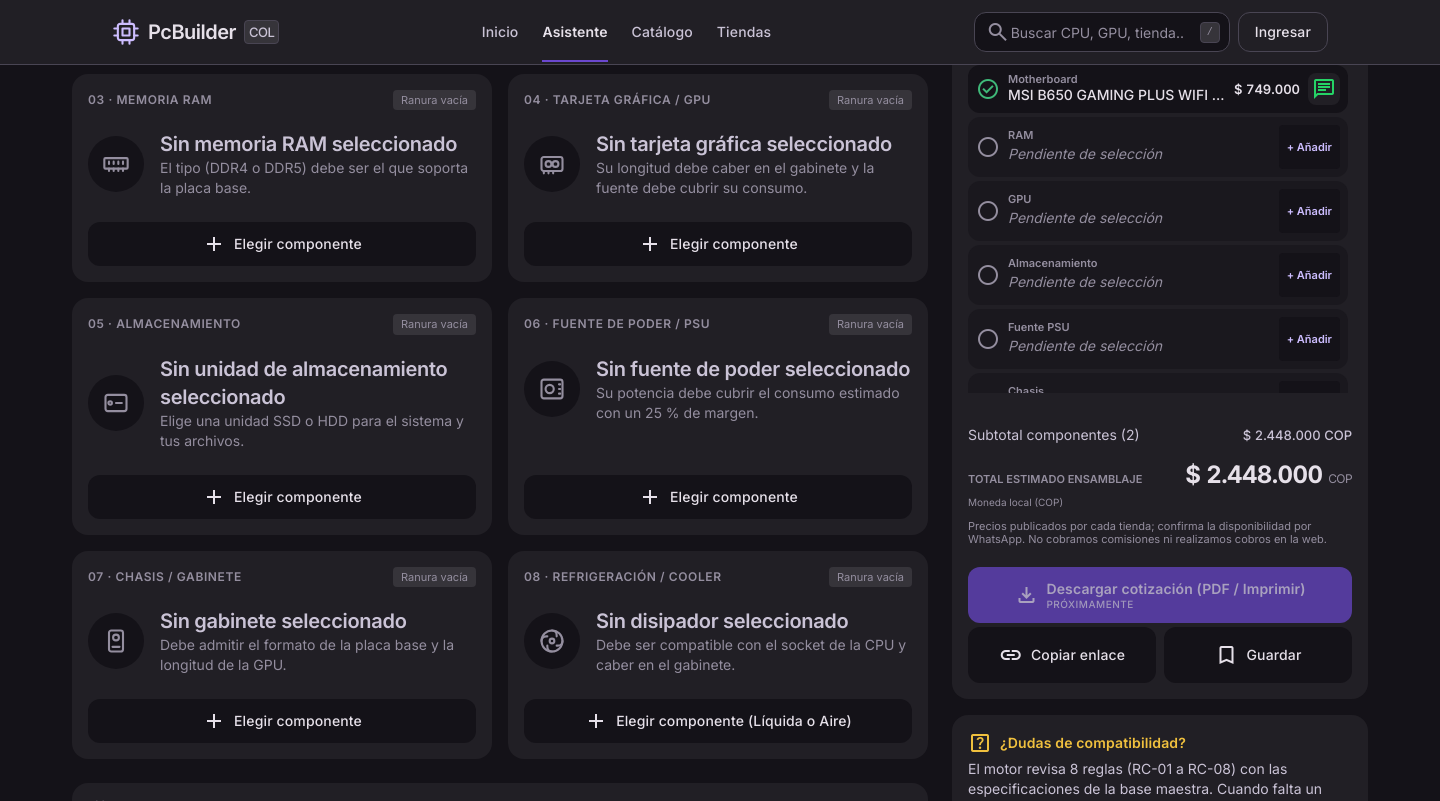
Test case: Asistente: compartir sin sesión › con un armado compatible no se marca como borrador
This screenshot has width=1440, height=801.
(page scrolled)
Click the button "Copiar enlace" at (1062, 655), box [968, 627, 1156, 683]
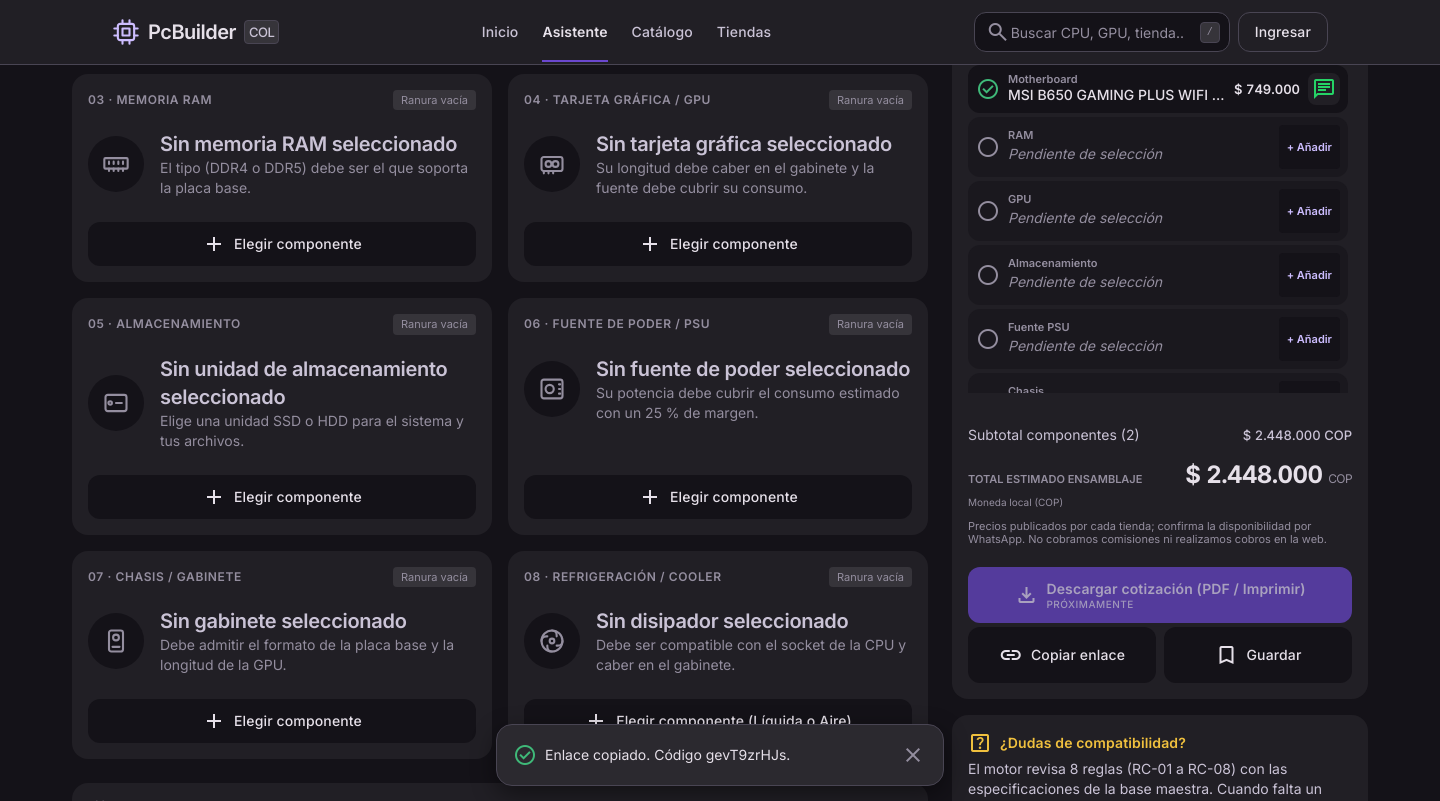
Check: the text "Enlace copiado" is shown, box [545, 746, 790, 763]
